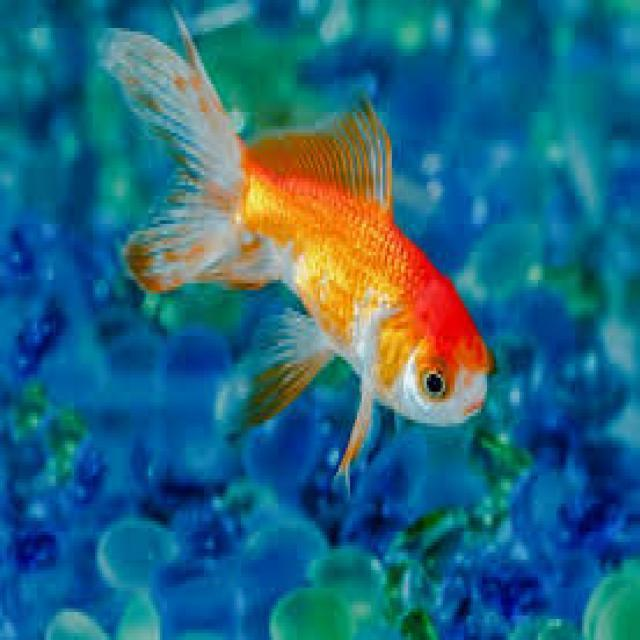goldfish: (96, 16, 508, 478)
